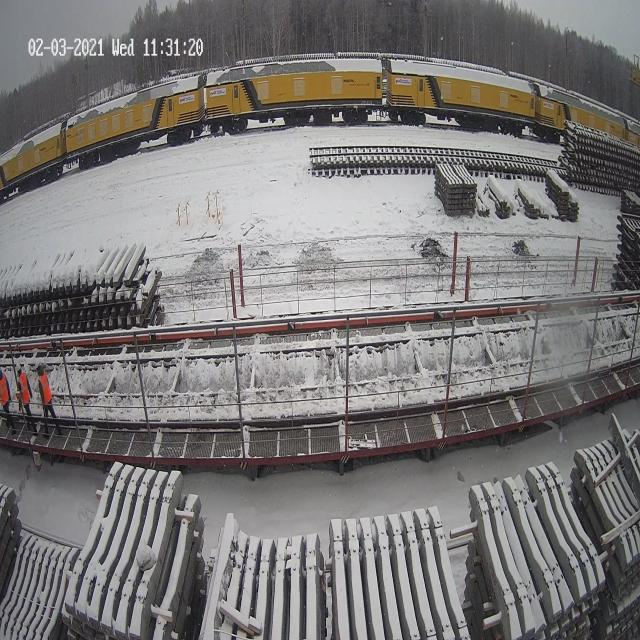Person: (37, 363, 62, 436), (15, 363, 38, 433), (0, 368, 16, 434)
